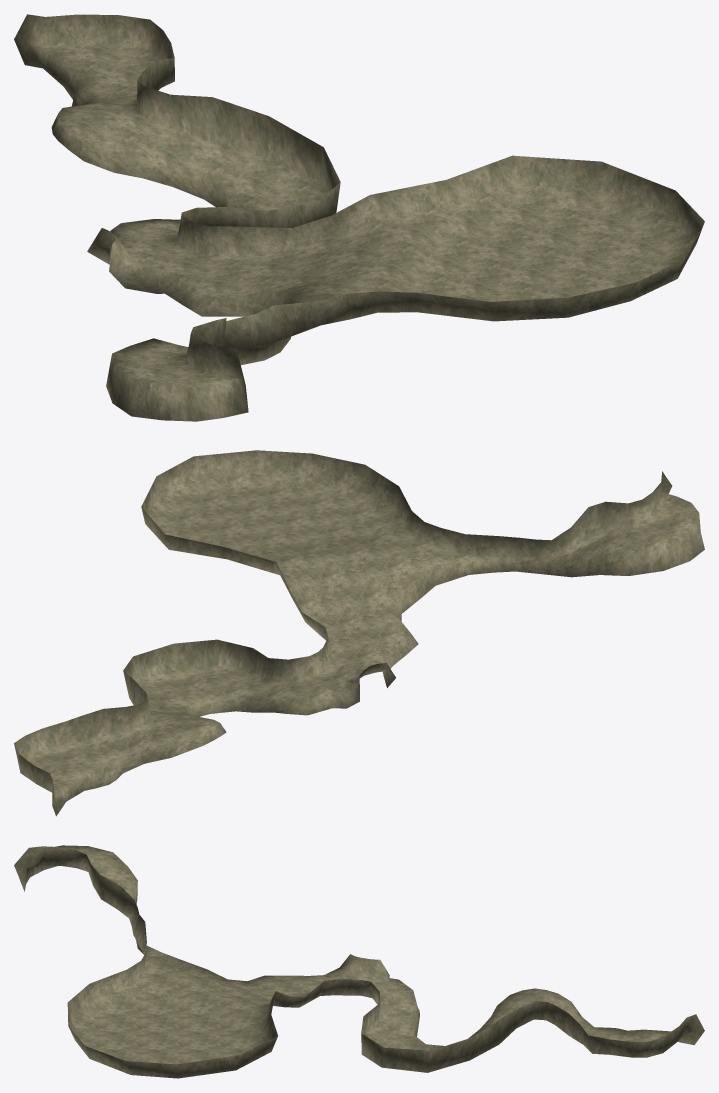
File: EKH_THRONE_PS_TH_LT_PATH_01.fbx
3 renders of one model, top to bottom at view 1: azimuth 30°, elevation 25°; view 2: azimuth 150°, elevation 25°; view 3: azimuth 270°, elevation 25°, orthographic. The views are drawn at different scales.
Parts seen in each view (by area): view 1: EKH_THRONE_PS_TH_LT_PATH_01; view 2: EKH_THRONE_PS_TH_LT_PATH_01; view 3: EKH_THRONE_PS_TH_LT_PATH_01.
Boxes of the visible parts, x1,y1,x2,y2 form: EKH_THRONE_PS_TH_LT_PATH_01: [14, 14, 704, 421]; EKH_THRONE_PS_TH_LT_PATH_01: [14, 450, 704, 816]; EKH_THRONE_PS_TH_LT_PATH_01: [14, 845, 704, 1078].
Bounding box in the file's own units: 230521 × 58961 × 330388.
Materials: 1 (1 with a texture image).
